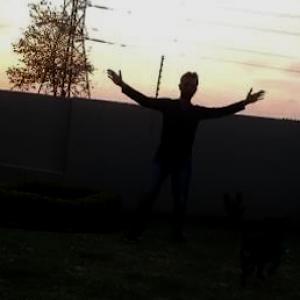takeoff: (84, 62, 250, 250)
